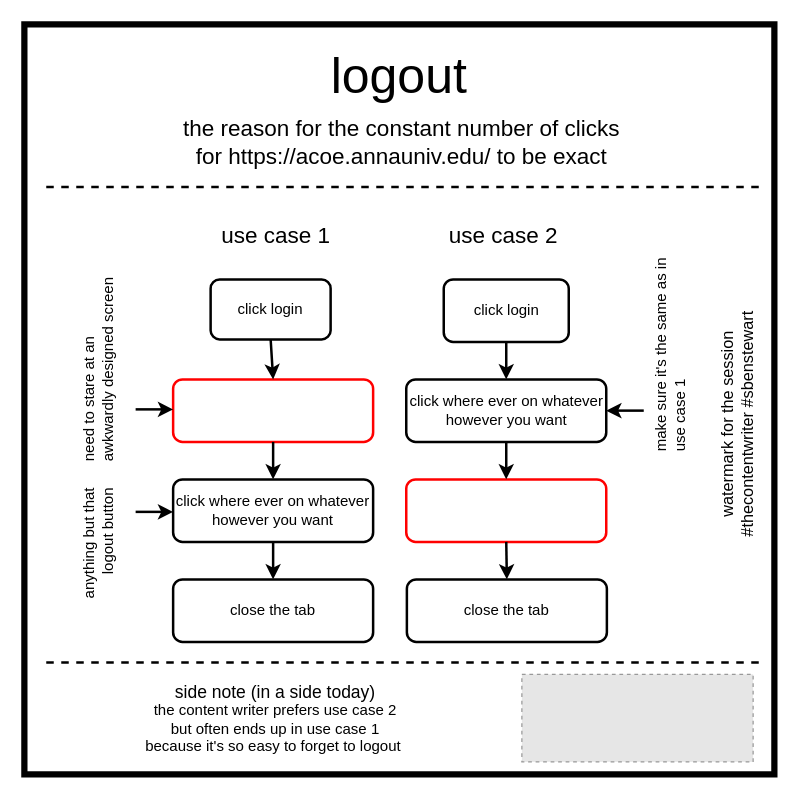
Some shapes in this 799 by 799 pixel diagram are drawn without their labels. Grey dashed boxes stand in for pictures. The shapes that lost their labels are listed below. From the top down, each one's centre as x and y in pixels, then its label:
At (272,410): "click on the logout from all other machines button".
At (505,510): "click on logout".
